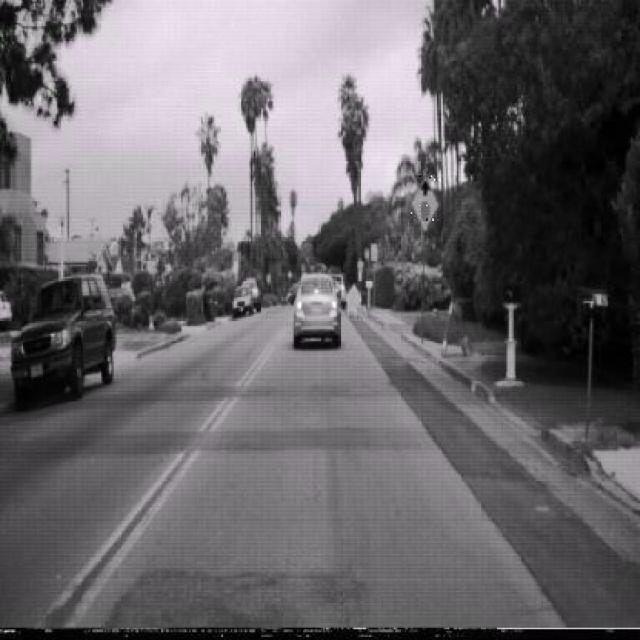stopAhead: (411, 174, 439, 233)
